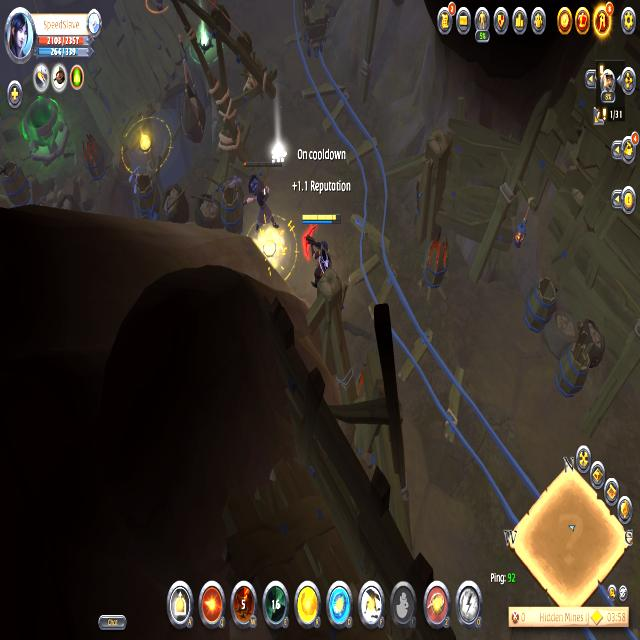ore: (242, 156, 278, 250), (139, 0, 174, 16)
red: (299, 208, 342, 292)
stone: (270, 141, 289, 167)
